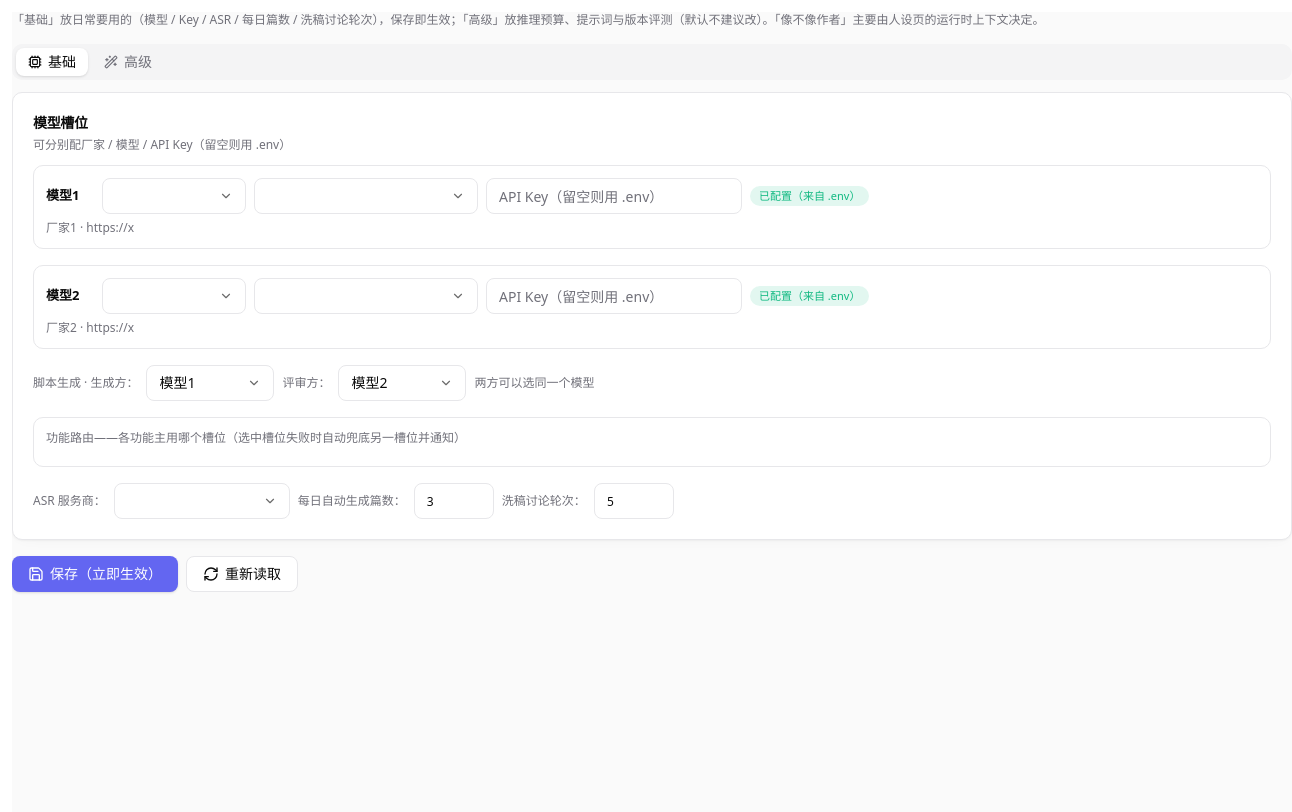
Test: PromptsPage R-255 提示词清单 › 请求失败：toast 报错且保留上一次成功的清单
What coordinates should you click on to do the following:
click the tab "高级"
I would click on:
 (128, 62)
Its box is [92,48,164,76].
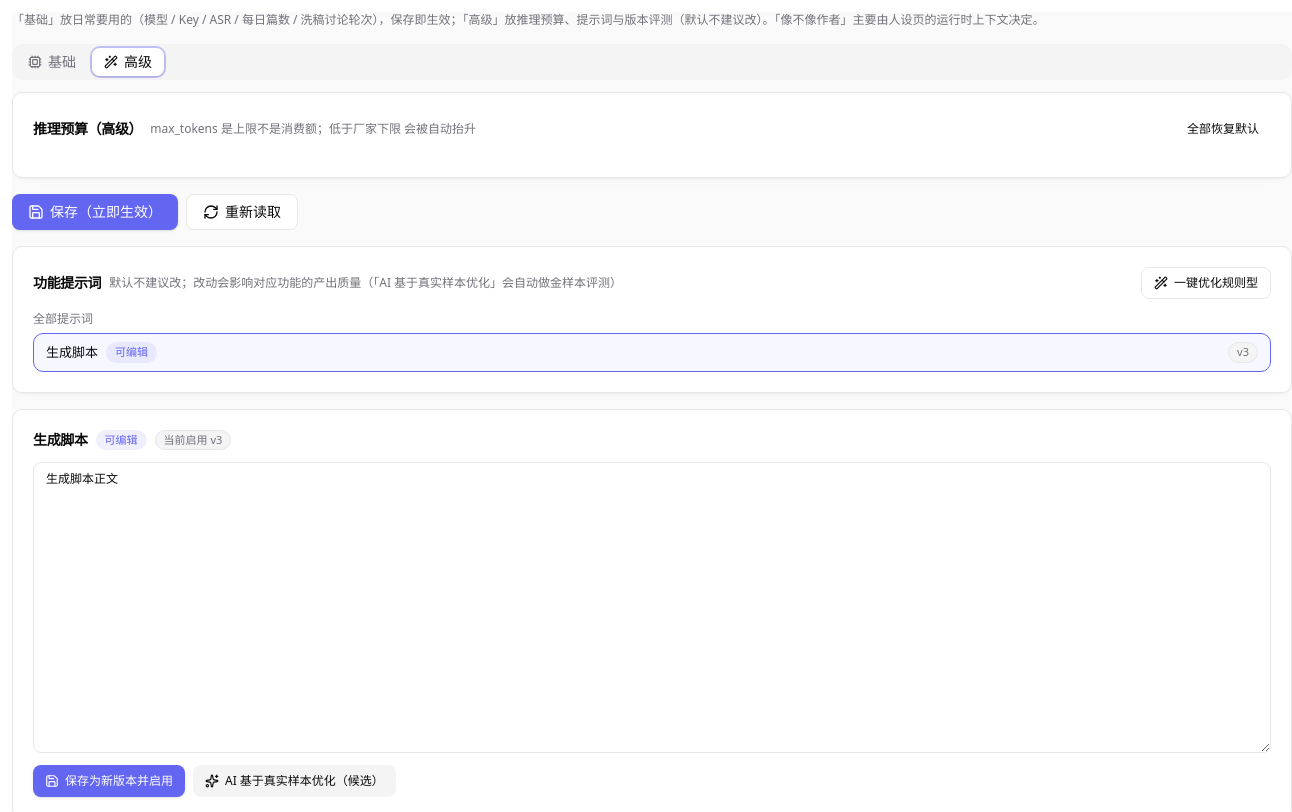
expect the button "生成脚本 可编辑 v3" is shown: met, box [33,333,1271,372]
